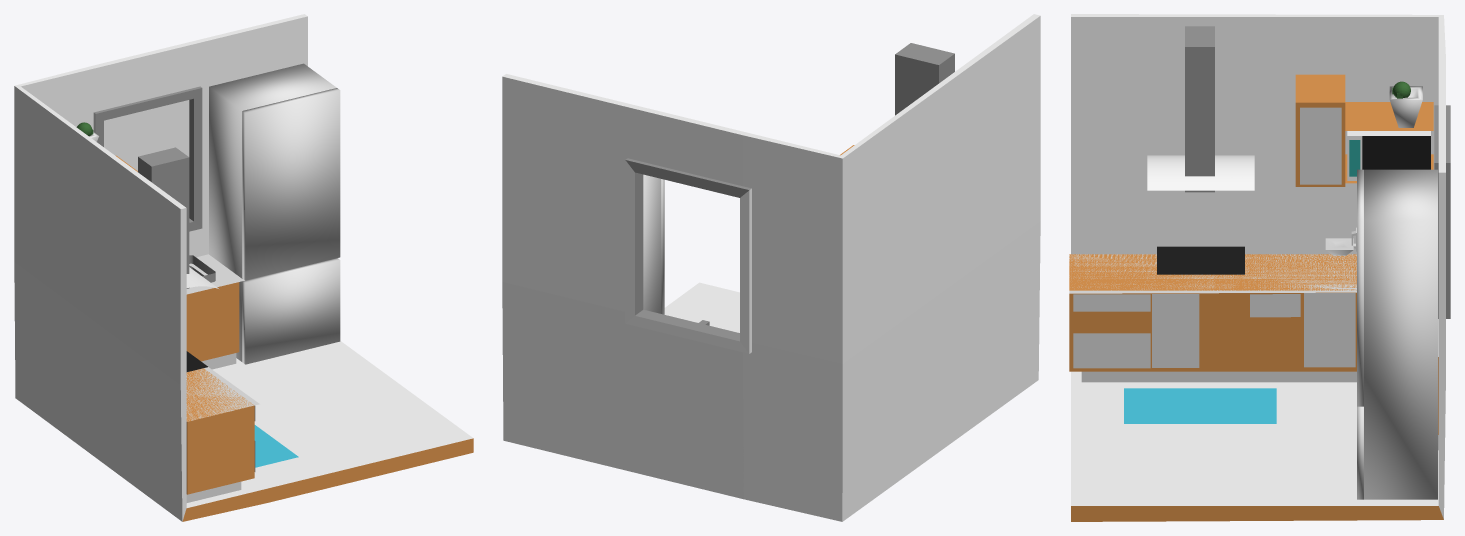
The model's file is cubicasa_03.glb.
The picture shows the model from 3 angles, left to right: view 1: azimuth 30°, elevation 25°; view 2: azimuth 150°, elevation 25°; view 3: azimuth 270°, elevation 25°; orthographic projection. The views are drawn at different scales.
Visible parts, largest first — view 1: paredes, nevera, armario_abajo, campana.002, encimera, campana.001, Plane.001, armario_abajo.001; view 2: paredes, nevera, campana.001; view 3: paredes, nevera, armario_abajo, encimera, Plane.001, campana.001, puerta.003, puerta.002, microondas, armario_abajo.001, puerta, campana (+8 smaller).
Boxes of the visible parts, x1,y1,x2,y2 form: paredes: [14, 14, 473, 521]; nevera: [209, 63, 340, 364]; armario_abajo: [186, 282, 254, 494]; campana.002: [104, 100, 189, 170]; encimera: [186, 254, 259, 421]; campana.001: [138, 147, 189, 288]; Plane.001: [254, 425, 298, 467]; armario_abajo.001: [186, 353, 241, 502]; paredes: [502, 14, 1040, 521]; nevera: [643, 174, 664, 314]; campana.001: [895, 43, 954, 115]; paredes: [1071, 14, 1450, 521]; nevera: [1357, 169, 1437, 499]; armario_abajo: [1069, 254, 1438, 434]; encimera: [1069, 254, 1438, 356]; Plane.001: [1124, 388, 1276, 423]; campana.001: [1185, 26, 1214, 192]; puerta.003: [1304, 293, 1355, 367]; puerta.002: [1152, 294, 1199, 367]; microondas: [1347, 131, 1430, 180]; armario_abajo.001: [1081, 371, 1438, 450]; puerta: [1300, 107, 1341, 184]; campana: [1147, 155, 1254, 190].
Size of what is drawn, in the model's own units: 2.04 by 2.1 by 2.07.
